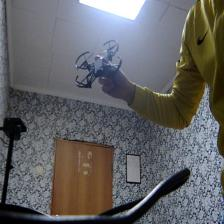drone: (72, 36, 130, 96)
